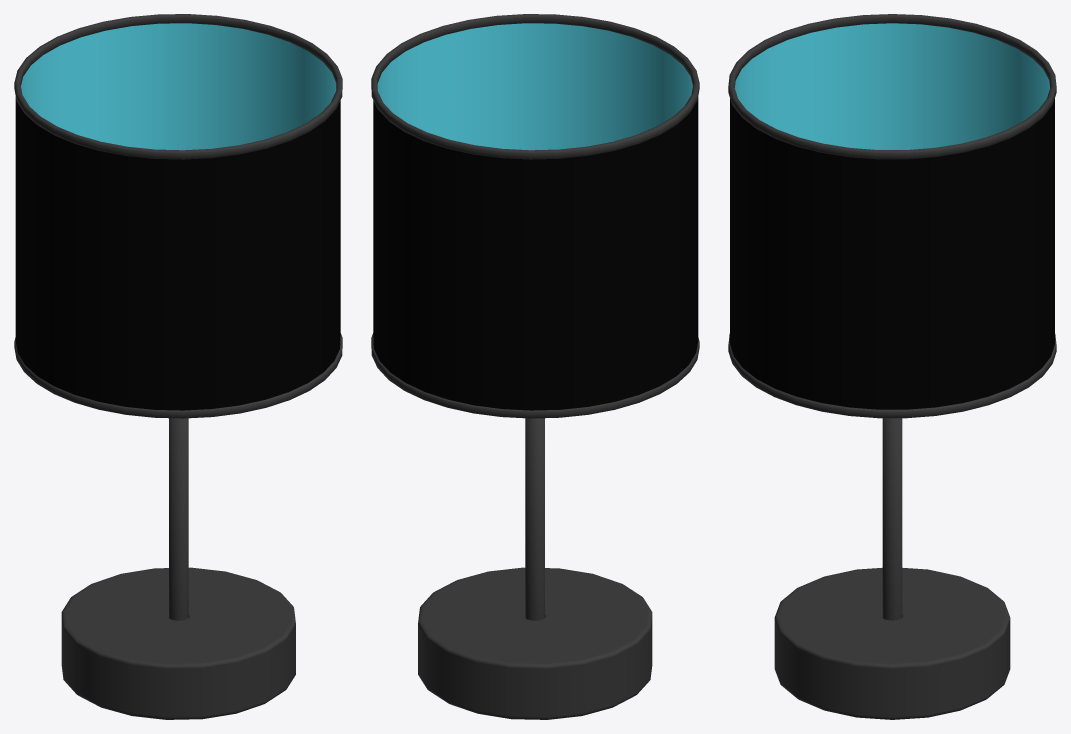
The model's file is SM_BedroomLight_001.FBX.
3 views of the same model, side by side, from view 1: azimuth 30°, elevation 25°; view 2: azimuth 150°, elevation 25°; view 3: azimuth 270°, elevation 25° (orthographic).
Visible parts, largest first — view 1: SM_BedroomLight_001; view 2: SM_BedroomLight_001; view 3: SM_BedroomLight_001.
Part boxes in pixels (x1,y1,x2,y2): SM_BedroomLight_001: (14, 14, 342, 719); SM_BedroomLight_001: (371, 14, 699, 719); SM_BedroomLight_001: (728, 14, 1056, 719).
Size of the model in its own units: 25.59 by 25.62 by 50.7.
